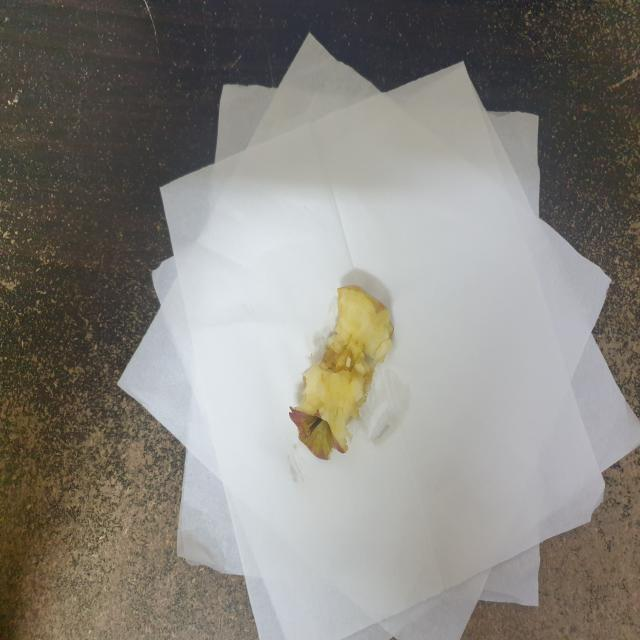apple: (286, 282, 398, 474)
